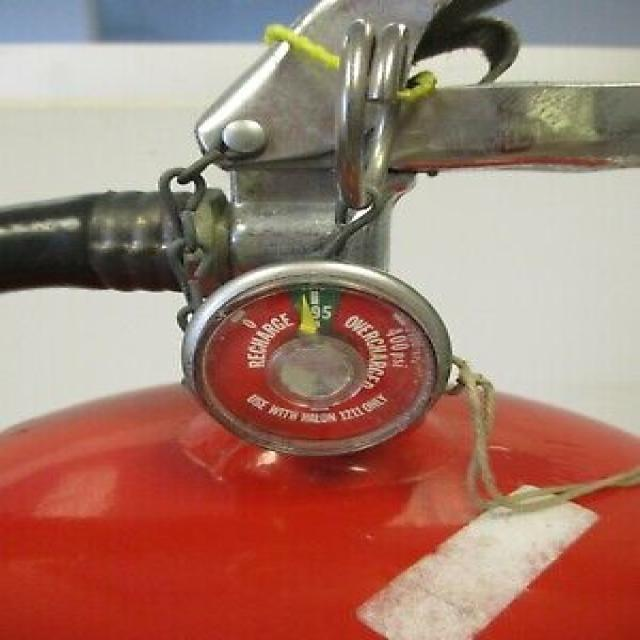pressure gauge: (182, 260, 451, 456)
